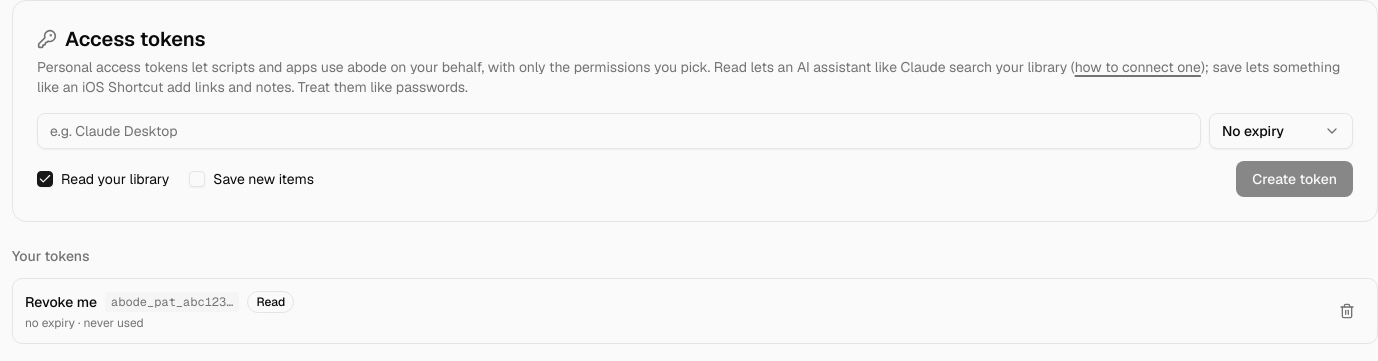
Scenario: TokenSettings › revokes a token on a two-step confirm and removes the row
Note: First click arms the confirm, second click revokes
Click the button named "Revoke token" at (1347, 311), box [1329,295,1365,327]
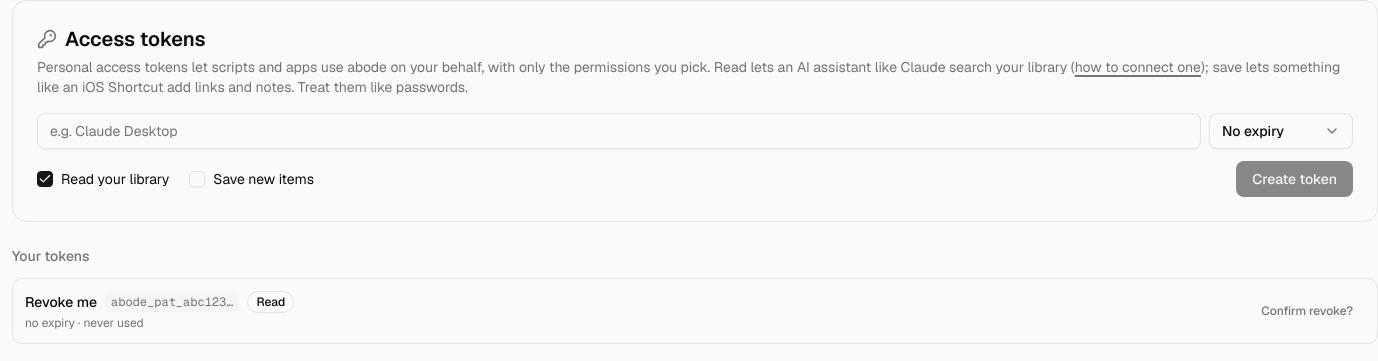
Click the button with aria-label "Revoke token" at (1307, 311), box [1249,295,1365,327]
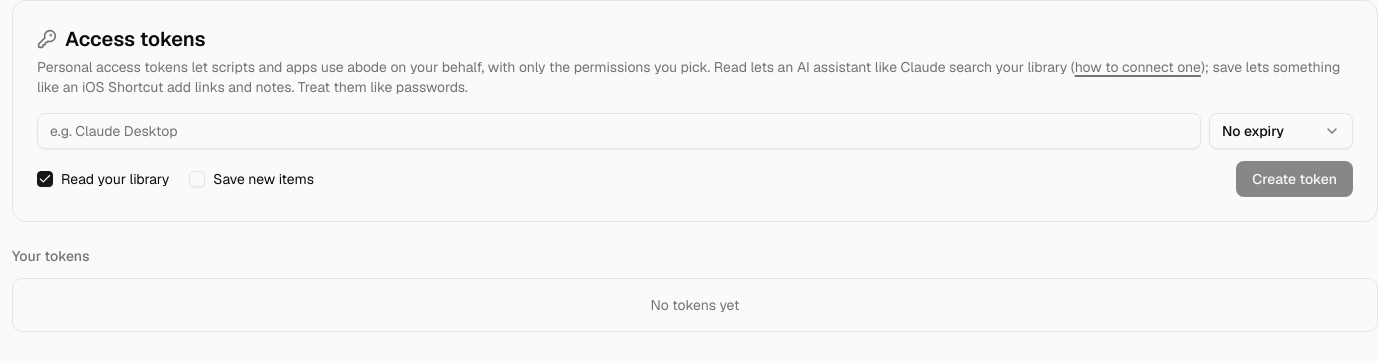
Check: the text "Revoke me" is gone
